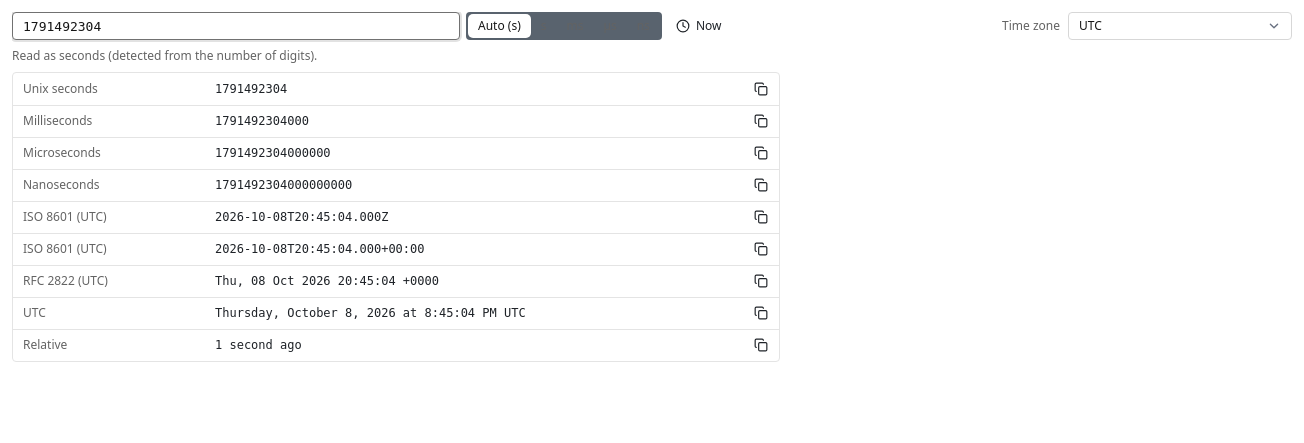
Test: TimestampConverter › converts as you type in the chosen zone
Replace the text in the field named "Timestamp or date" with "1700000000000": (236, 26) [12, 12, 460, 40]
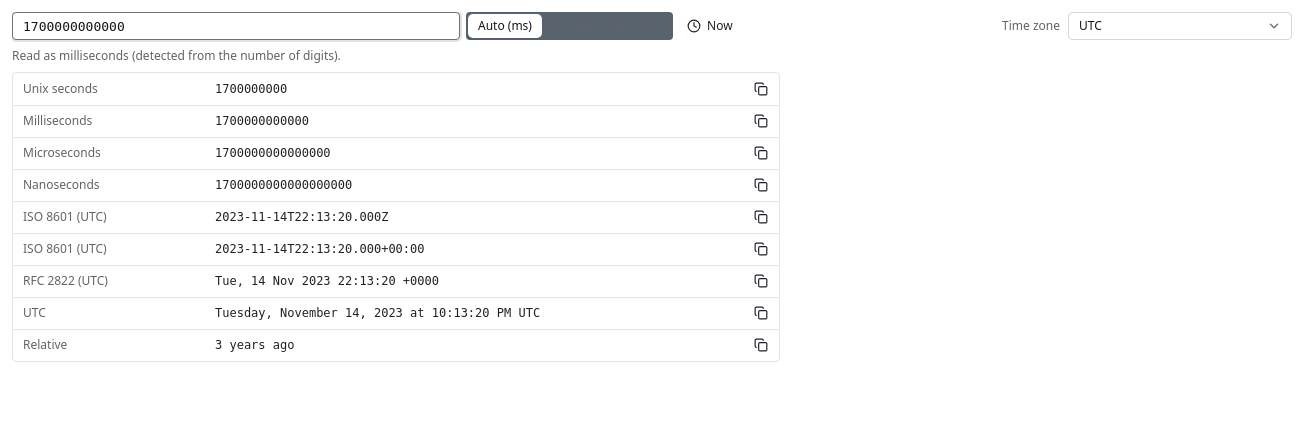
Select "Asia/Tokyo" in the dropdown labelled "Time zone": (1180, 26) [1068, 12, 1292, 40]
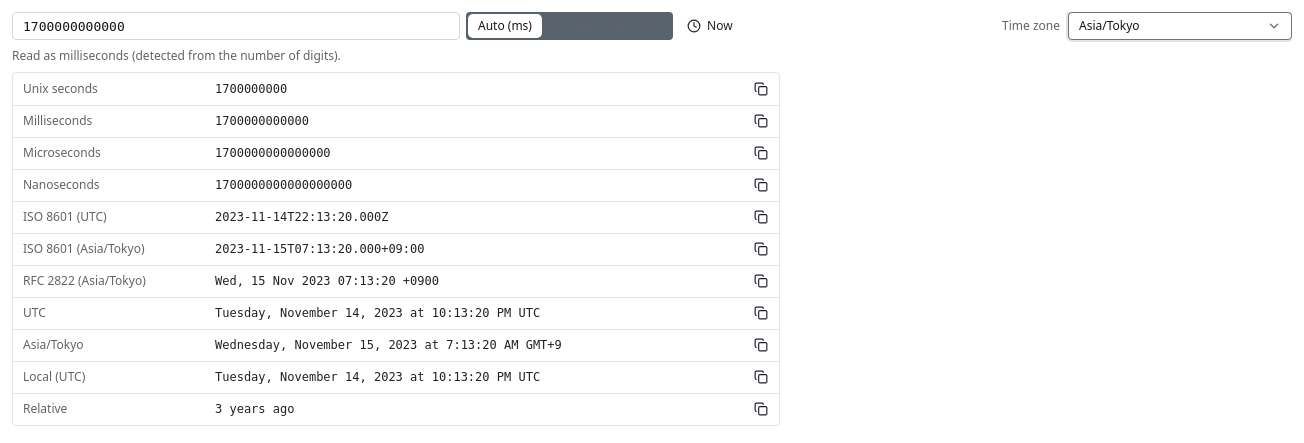
Expected: the text "Read as milliseconds" is shown, [12, 47, 341, 64]
Expected: the text "2023-11-14T22:13:20.000Z" is shown, [205, 201, 747, 233]
Expected: the text "2023-11-15T07:13:20.000+09:00" is shown, [205, 233, 747, 265]
